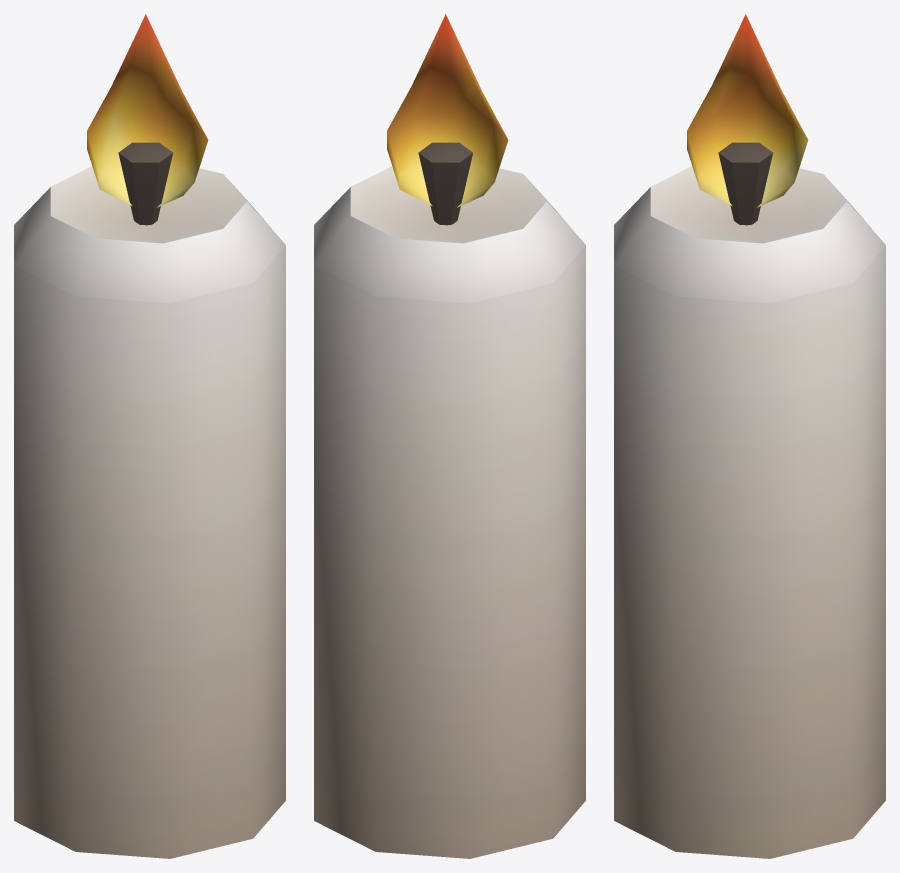
Rendered from candle_lit.glb.
3 renders of one model, left to right at view 1: azimuth 30°, elevation 25°; view 2: azimuth 150°, elevation 25°; view 3: azimuth 270°, elevation 25°, orthographic.
Visible parts, largest first — view 1: candle_lit; view 2: candle_lit; view 3: candle_lit.
Part boxes in pixels (x1=…): candle_lit: x1=14, y1=14, x2=285, y2=858; candle_lit: x1=314, y1=14, x2=585, y2=858; candle_lit: x1=614, y1=14, x2=885, y2=858.
Bounding box in the file's own units: 0.3344 × 1.05 × 0.3293.
Materials: 1 (1 with a texture image).
